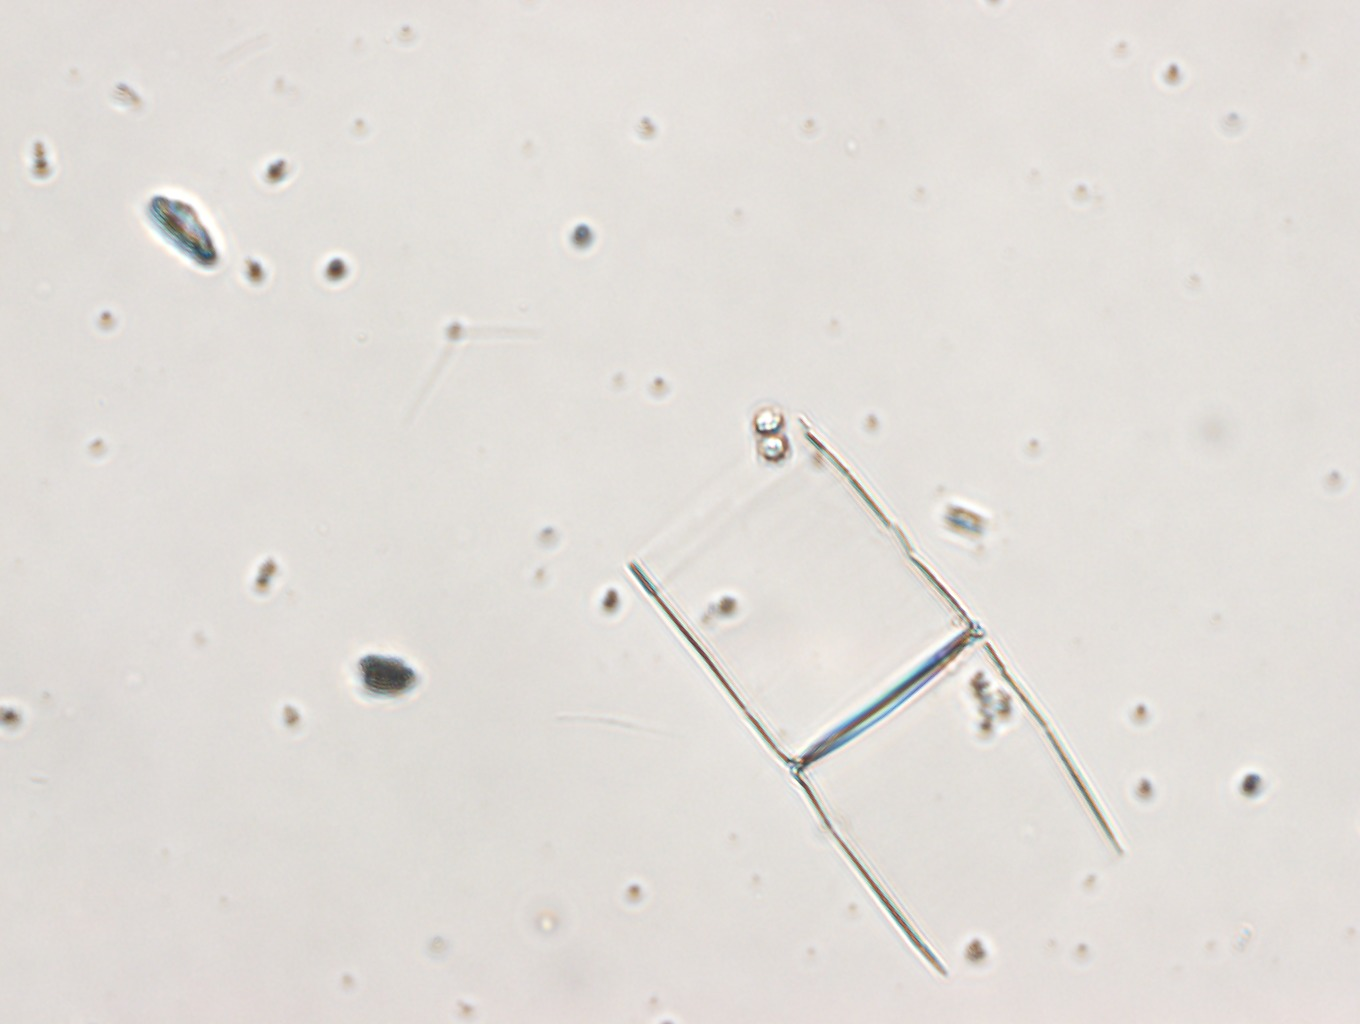guinardia flaccida: (625, 416, 1131, 983)
